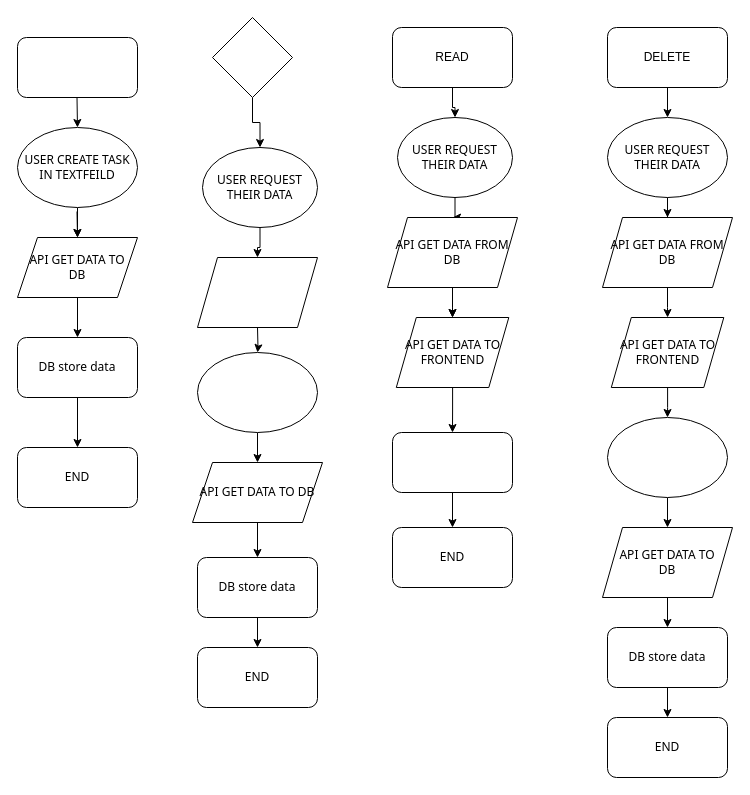
This 750x795 diagram has some shape labels left out. Here are the shapes that lost their labels. From the top down, the centre of each, then its label:
the point at 77,67: Create
the point at 252,57: EDIT
the point at 257,292: API REQEST &SEND DATA TO FRONTEND
the point at 257,392: USER CAN EDIT THEIR DATA
the point at 452,462: Frontend display data
the point at 667,457: USER DELETE DATA
